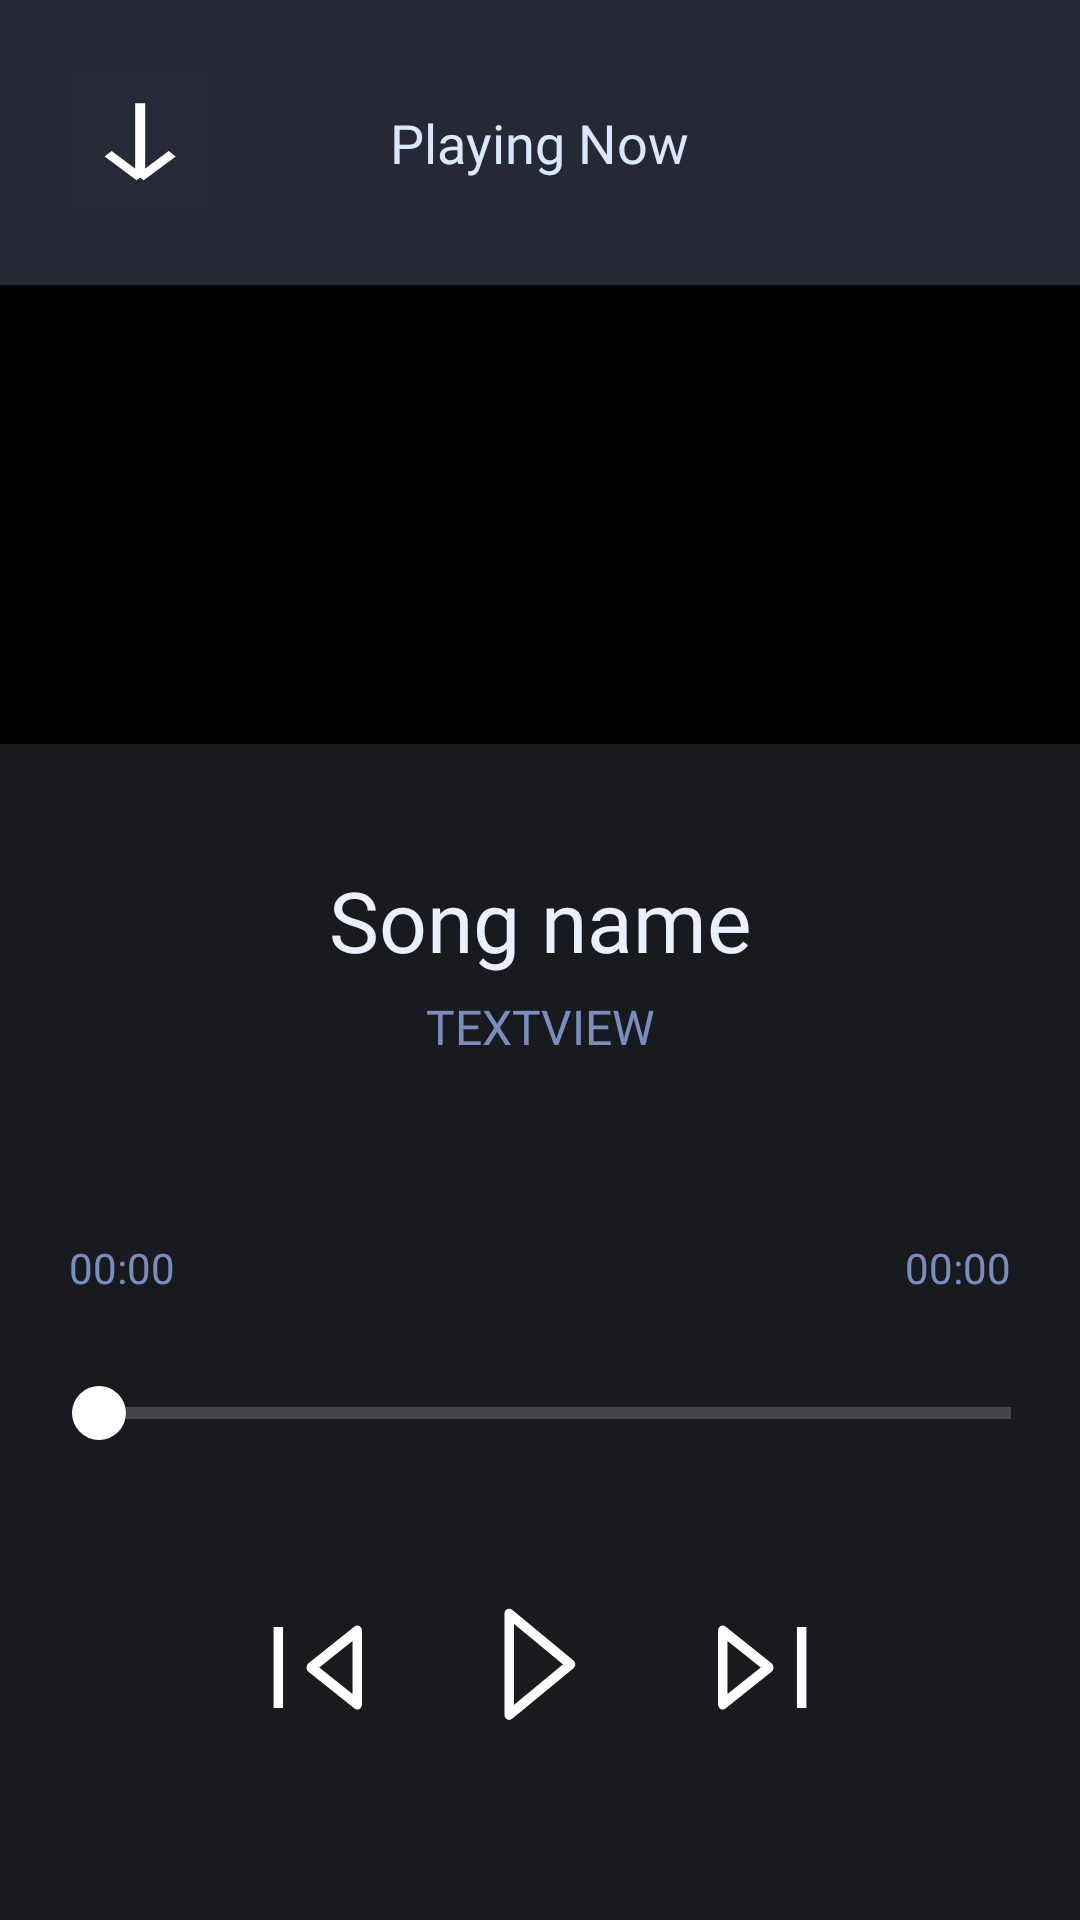

Icons on this 1080 × 1920 Android screen, each with its box as (left=x1, top=y1, right=x2, bottom=y2):
play: (left=504, top=1608, right=576, bottom=1720)
